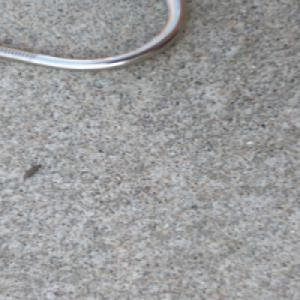ClampPart: (0, 0, 190, 74)
